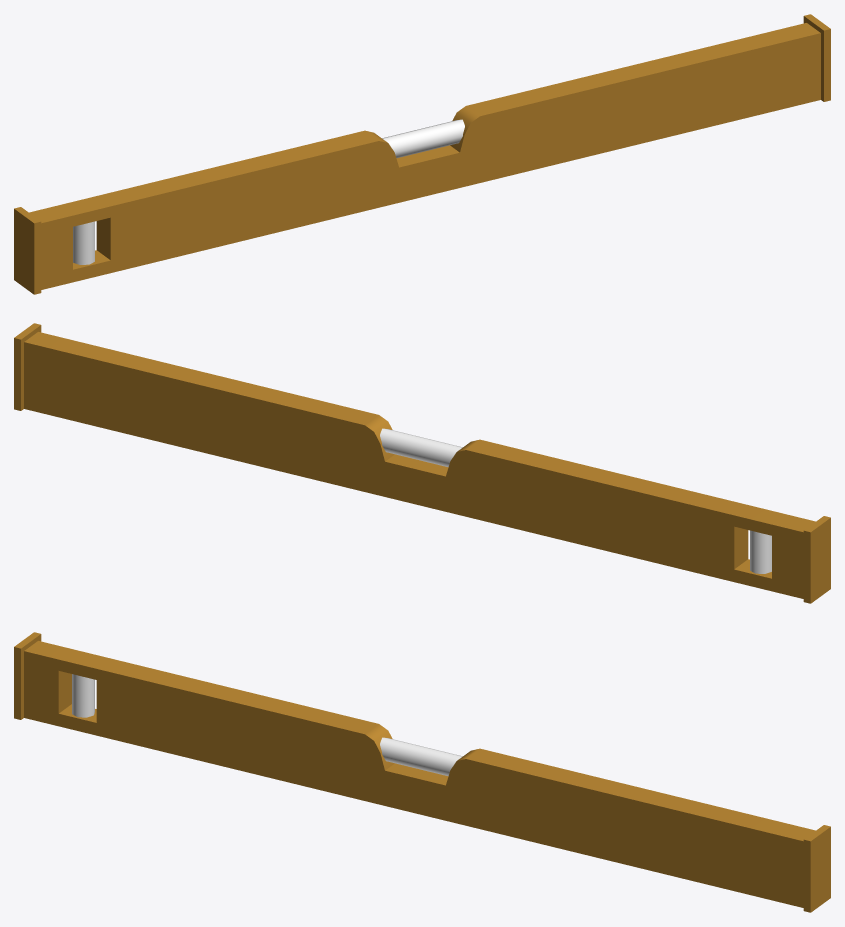
The model's file is Building _level.fbx.
3 renders of one model, top to bottom at view 1: azimuth 30°, elevation 25°; view 2: azimuth 150°, elevation 25°; view 3: azimuth 330°, elevation 25°, orthographic.
Visible parts, largest first — view 1: Building _level; view 2: Building _level; view 3: Building _level.
Part boxes in pixels (box(x1,y1,x2,y2)): Building _level: box(14, 14, 830, 294); Building _level: box(14, 323, 830, 603); Building _level: box(14, 632, 830, 912).
Size of the model in its own units: 115 by 5.04 by 9.85.
